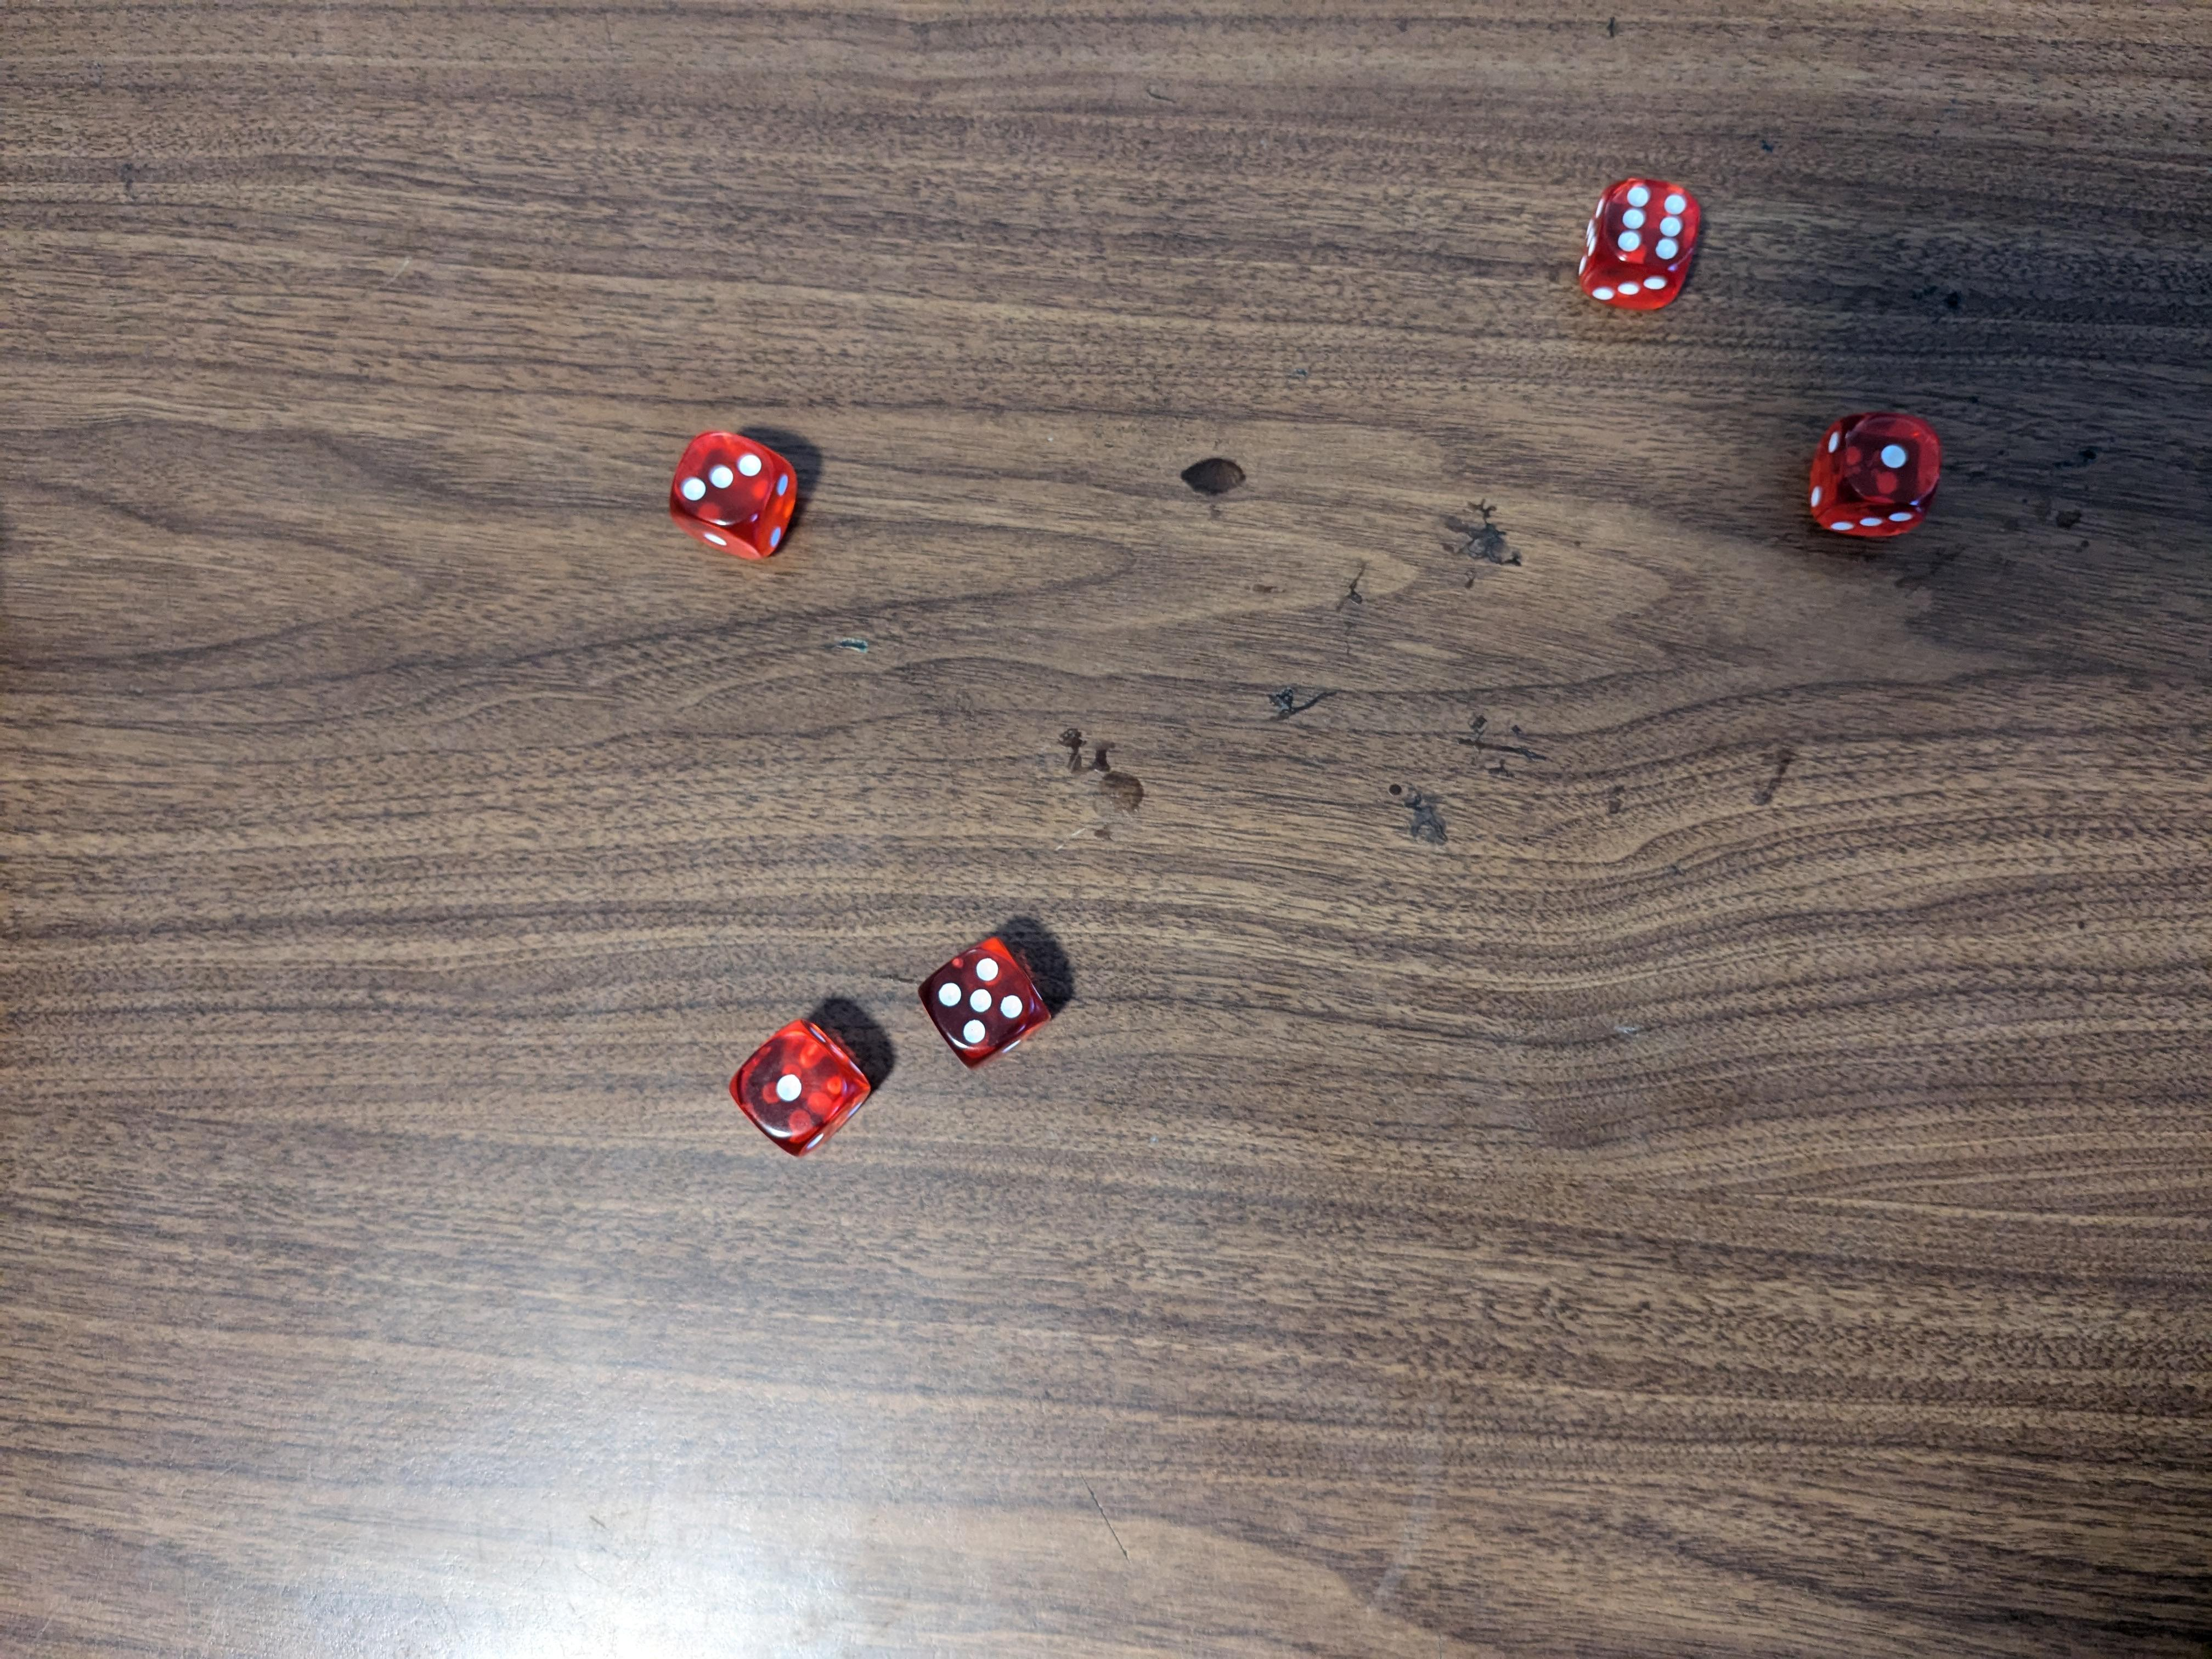five: (921, 931, 1059, 1077)
one: (728, 1014, 878, 1155), (1808, 408, 1942, 542)
six: (1571, 173, 1707, 310)
three: (669, 430, 801, 556)
